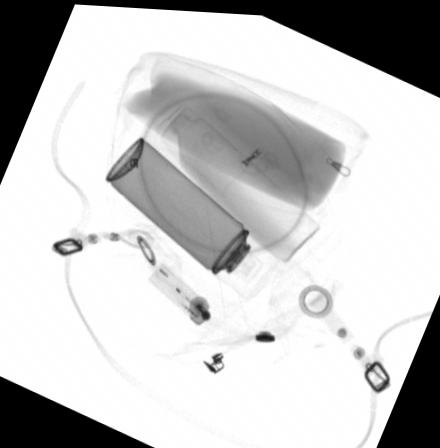Lighter: (145, 259, 216, 324)
Sprayer: (104, 134, 279, 299)
